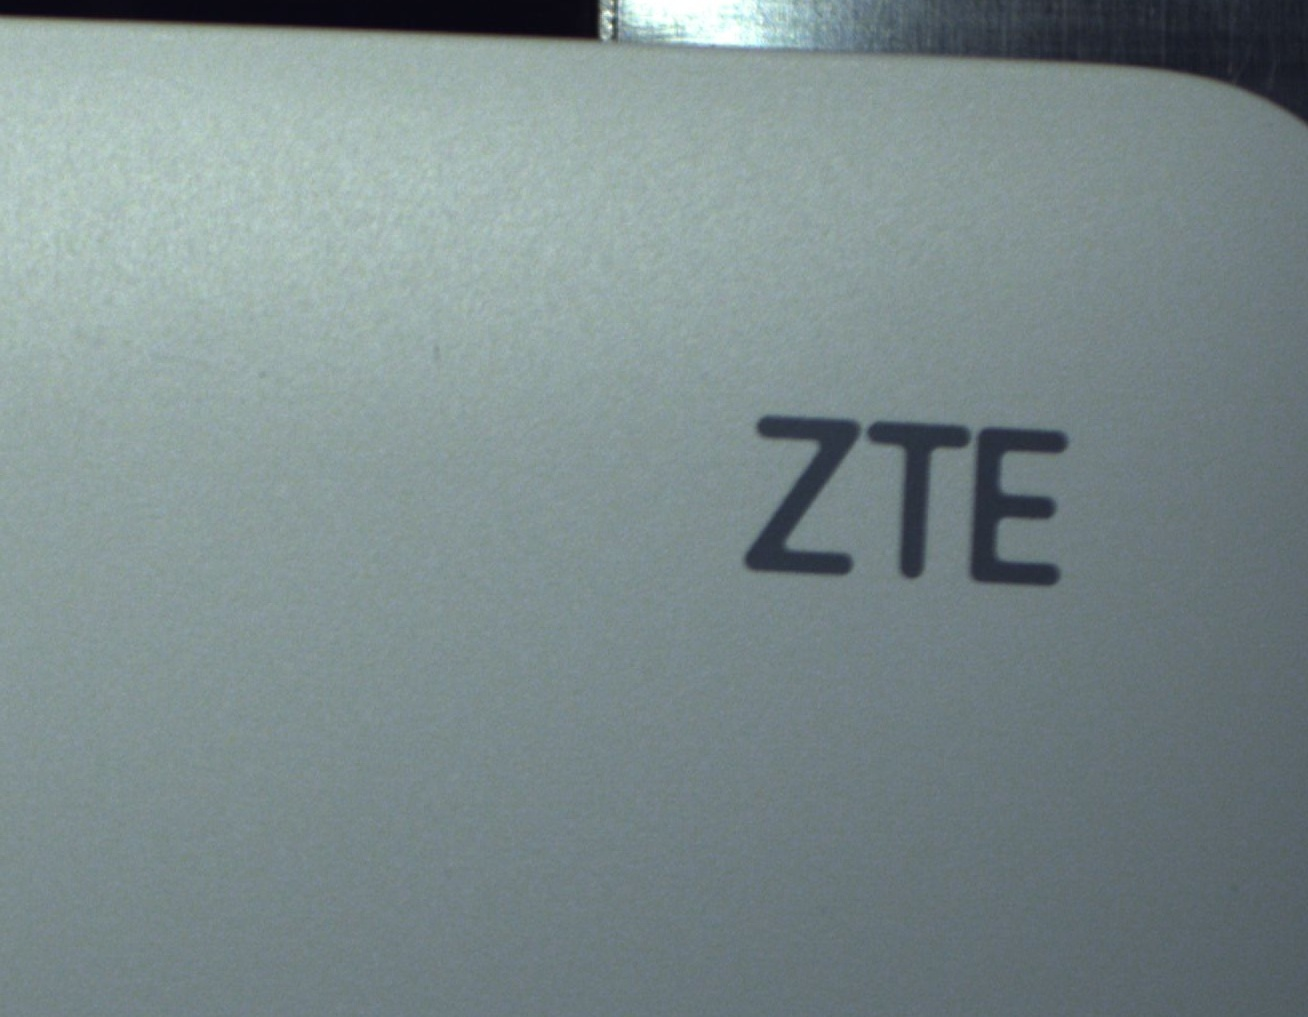AN_ZTE: (726, 386, 1087, 610)
